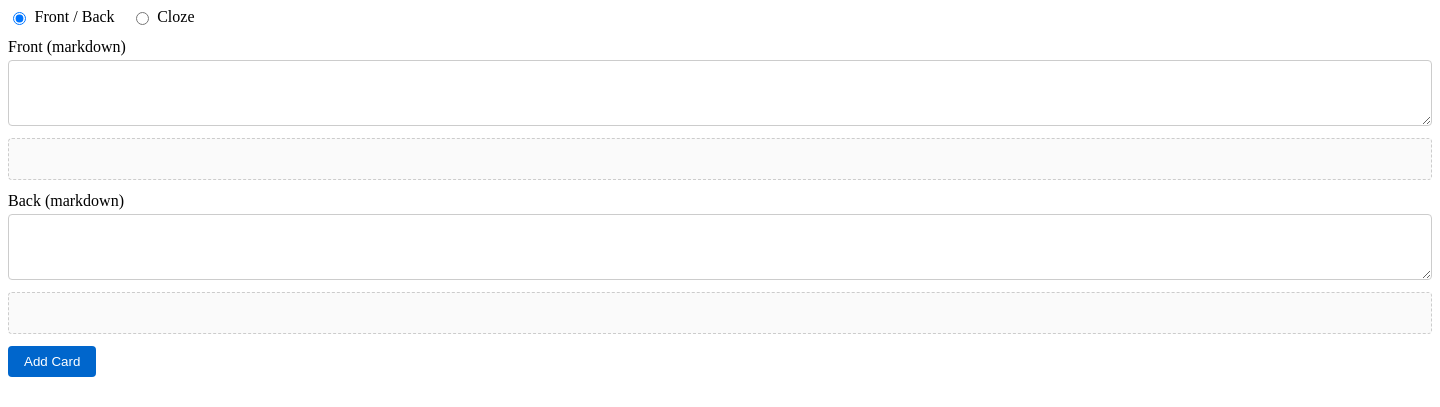
Scenario: CardEditor › requires a cloze marker before submitting a cloze card
Click the radio button labelled "Cloze" at (142, 18), box [136,12,149,25]
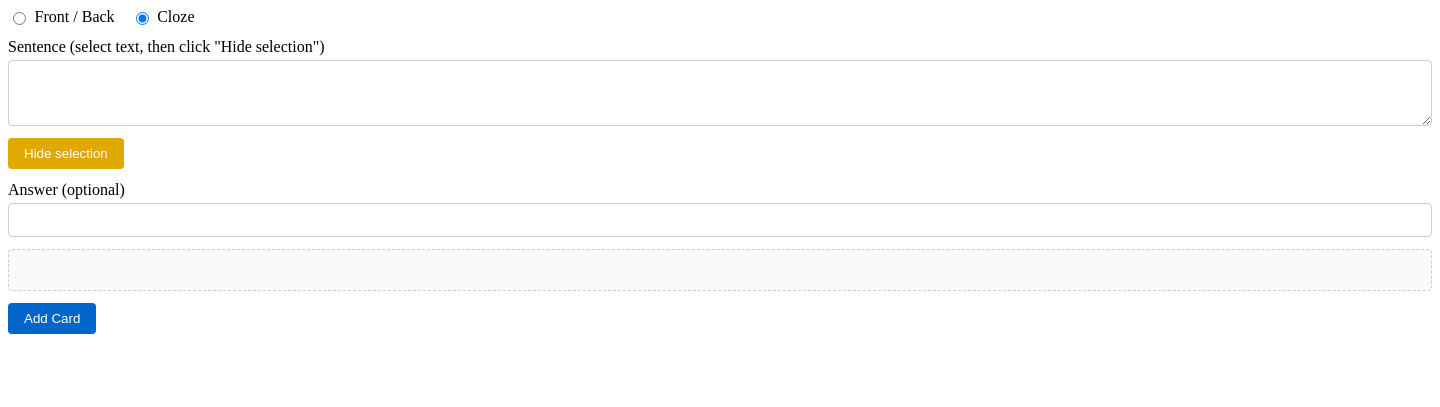
Type "The capital of France is Paris" into the text box labelled "Sentence (select text, then click \"Hide selection\")" at (720, 93), box [8,60,1432,126]
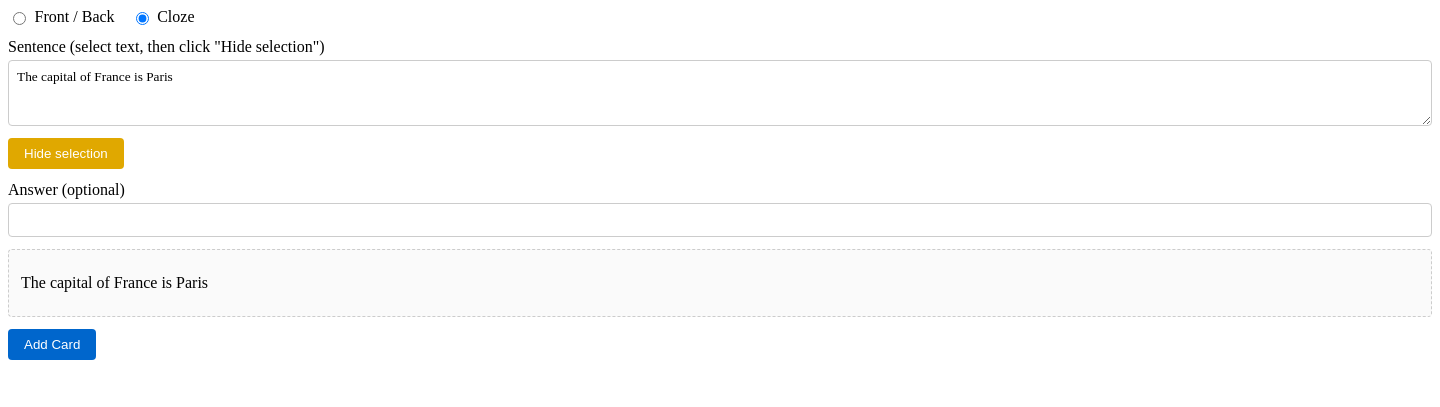
Click the button "Add Card" at (52, 344), box [8,329,96,360]
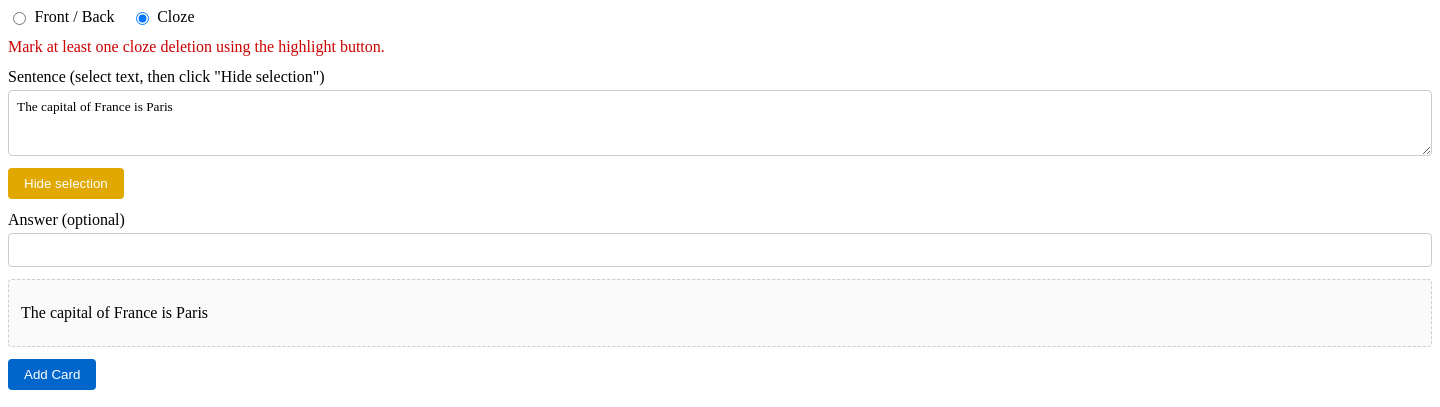
Result: the text "Mark at least one cloze deletion using the highlight button." is shown at [8,38,385,55]
